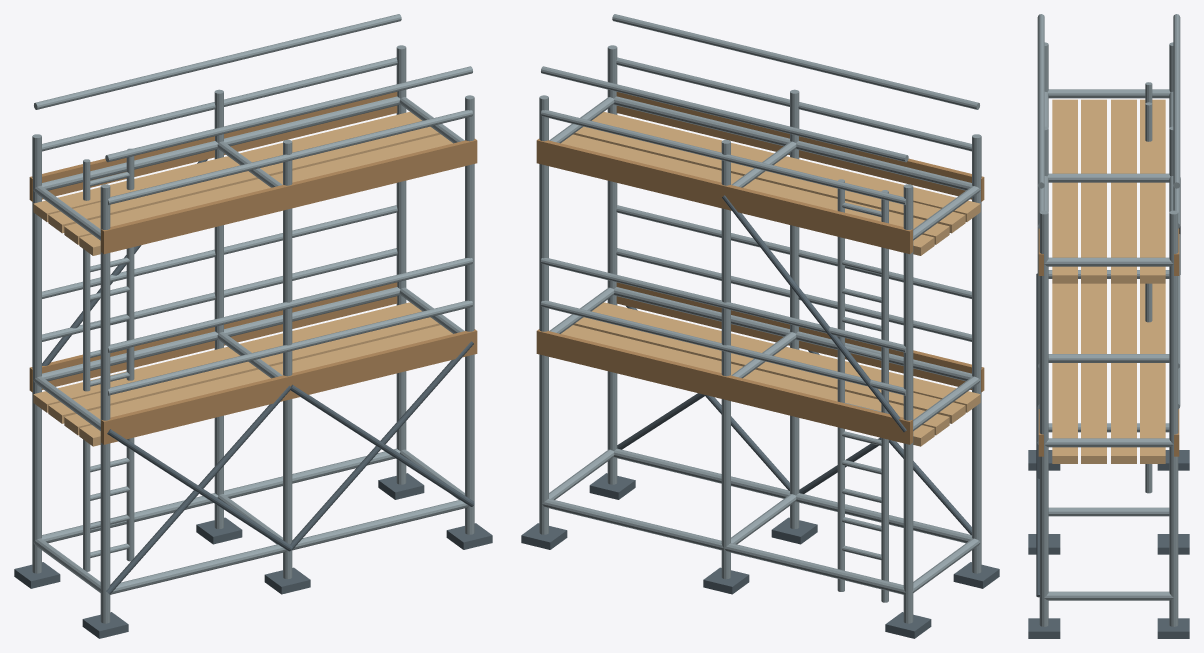
The model's file is Scaffolding.fbx.
3 views of the same model, side by side, from view 1: azimuth 30°, elevation 25°; view 2: azimuth 150°, elevation 25°; view 3: azimuth 270°, elevation 25° (orthographic). The views are drawn at different scales.
Parts seen in each view (by area): view 1: Toe Board.002, Toe Board, Working Platform Board.007, Toe Board.003, Working Platform Board.001, Working Platform Board.005, Working Platform Board.003, Toe Board.001, Scaffold Upright, Working Platform Board.006, Working Platform Board.002, Scaffold Upright.001 (+31 smaller); view 2: Toe Board.003, Toe Board.001, Toe Board.002, Working Platform Board.004, Toe Board, Working Platform Board, Scaffold Upright.001, Working Platform Board.002, Working Platform Board.006, Scaffold Upright, Working Platform Board.005, Working Platform Board.001 (+33 smaller); view 3: Working Platform Board.004, Working Platform Board.005, Working Platform Board.006, Working Platform Board, Working Platform Board.001, Working Platform Board.002, Working Platform Board.007, Working Platform Board.003, Scaffold Upright.005, Scaffold Upright.004, Platform Guardrail.005, Platform Guardrail.007 (+19 smaller).
Boxes of the visible parts, x1=… form: Toe Board.002: x1=101, y1=139, x2=477, y2=254; Toe Board: x1=101, y1=329, x2=477, y2=444; Working Platform Board.007: x1=33, y1=112, x2=421, y2=221; Toe Board.003: x1=29, y1=92, x2=397, y2=201; Working Platform Board.001: x1=64, y1=325, x2=452, y2=435; Working Platform Board.005: x1=64, y1=134, x2=452, y2=244; Working Platform Board.003: x1=33, y1=302, x2=421, y2=412; Toe Board.001: x1=29, y1=282, x2=397, y2=392; Scaffold Upright: x1=100, y1=184, x2=110, y2=623; Working Platform Board.006: x1=48, y1=126, x2=440, y2=233; Working Platform Board.002: x1=48, y1=317, x2=440, y2=423; Scaffold Upright.001: x1=32, y1=134, x2=41, y2=573; Toe Board.003: x1=536, y1=139, x2=912, y2=254; Toe Board.001: x1=536, y1=329, x2=912, y2=444; Toe Board.002: x1=616, y1=92, x2=984, y2=201; Working Platform Board.004: x1=592, y1=112, x2=980, y2=221; Toe Board: x1=616, y1=282, x2=984, y2=392; Working Platform Board: x1=592, y1=302, x2=980, y2=412; Scaffold Upright.001: x1=903, y1=184, x2=913, y2=623; Working Platform Board.002: x1=561, y1=325, x2=949, y2=435; Working Platform Board.006: x1=561, y1=134, x2=949, y2=244; Scaffold Upright: x1=972, y1=134, x2=981, y2=573; Working Platform Board.005: x1=573, y1=126, x2=965, y2=233; Working Platform Board.001: x1=573, y1=317, x2=965, y2=423; Working Platform Board.004: x1=1052, y1=99, x2=1077, y2=283; Working Platform Board.005: x1=1081, y1=99, x2=1106, y2=283; Working Platform Board.006: x1=1111, y1=99, x2=1136, y2=283; Working Platform Board: x1=1052, y1=283, x2=1077, y2=463; Working Platform Board.001: x1=1081, y1=283, x2=1106, y2=463; Working Platform Board.002: x1=1111, y1=283, x2=1136, y2=463; Working Platform Board.007: x1=1140, y1=99, x2=1165, y2=283; Working Platform Board.003: x1=1140, y1=283, x2=1165, y2=463; Scaffold Upright.005: x1=1169, y1=210, x2=1178, y2=626; Scaffold Upright.004: x1=1039, y1=210, x2=1048, y2=626; Platform Guardrail.005: x1=1037, y1=14, x2=1044, y2=188; Platform Guardrail.007: x1=1173, y1=14, x2=1180, y2=188.
Size of the model in its own units: 432 by 499 by 162.
